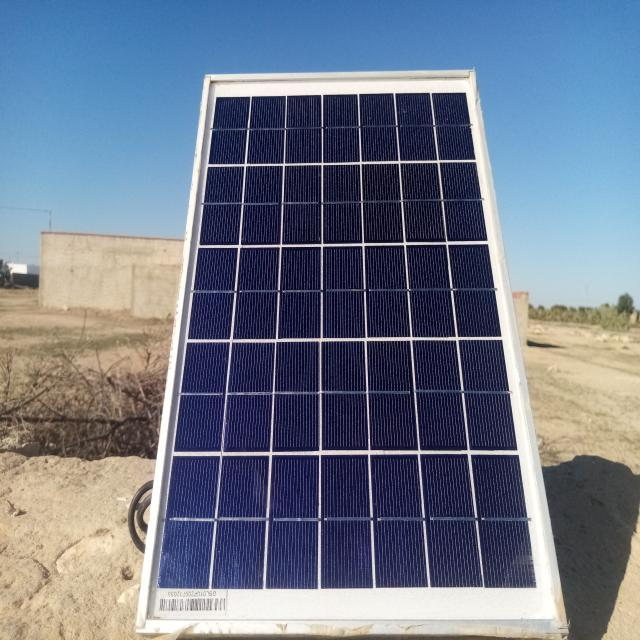no faulty: (137, 72, 566, 634)
